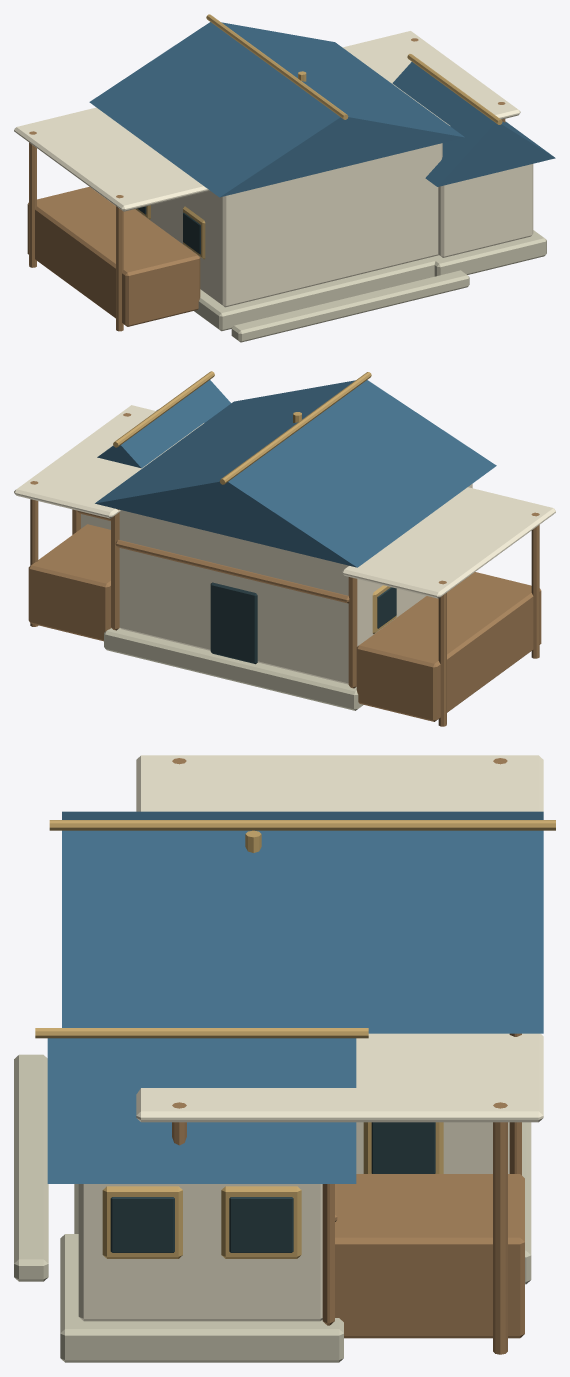
File: level_08.glb
3 renders of one model, top to bottom at view 1: azimuth 30°, elevation 25°; view 2: azimuth 150°, elevation 25°; view 3: azimuth 270°, elevation 25°, orthographic. The views are drawn at different scales.
Parts seen in each view (by area): view 1: market — level 08; view 2: market — level 08; view 3: market — level 08.
Boxes of the visible parts, x1,y1,x2,y2 form: market — level 08: (14,14,555,342); market — level 08: (14,371,555,726); market — level 08: (14,755,555,1362).
Bounding box in the file's own units: 7.08 × 3.21 × 4.39.
